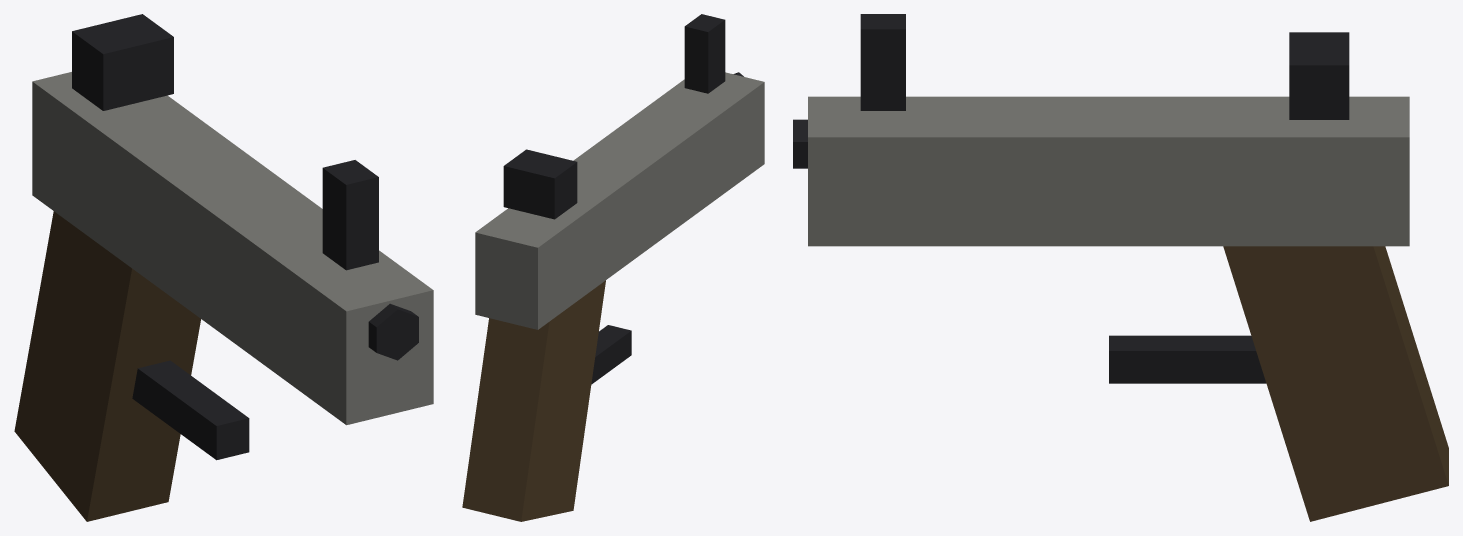
Rendered from m1912_colter.glb.
The picture shows the model from 3 angles, left to right: view 1: azimuth 30°, elevation 25°; view 2: azimuth 150°, elevation 25°; view 3: azimuth 270°, elevation 25°; orthographic projection. The views are drawn at different scales.
Visible parts, largest first — view 1: m1912_colter; view 2: m1912_colter; view 3: m1912_colter.
Part boxes in pixels (<box>): m1912_colter: <box>14,14,433,521</box>; m1912_colter: <box>462,14,764,521</box>; m1912_colter: <box>793,14,1448,521</box>.
Size of the model in its own units: 0.032 by 0.1766 by 0.2181.
